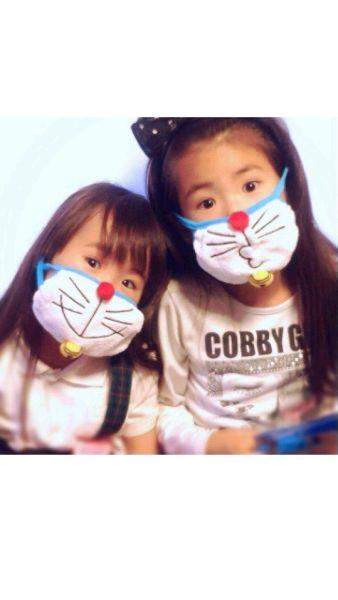OK: (177, 167, 298, 272), (54, 232, 143, 330)
